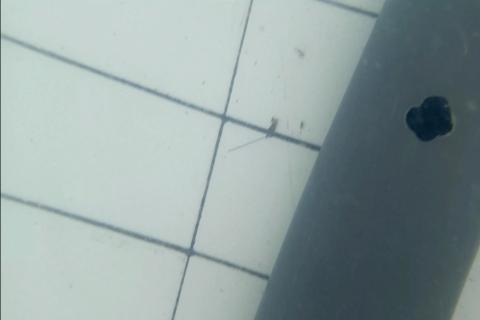kebocoran: (403, 91, 455, 145)
